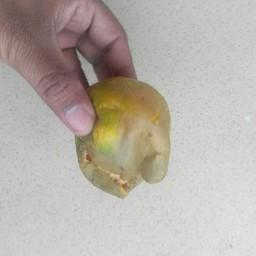Bad_orange: (71, 77, 170, 197)
